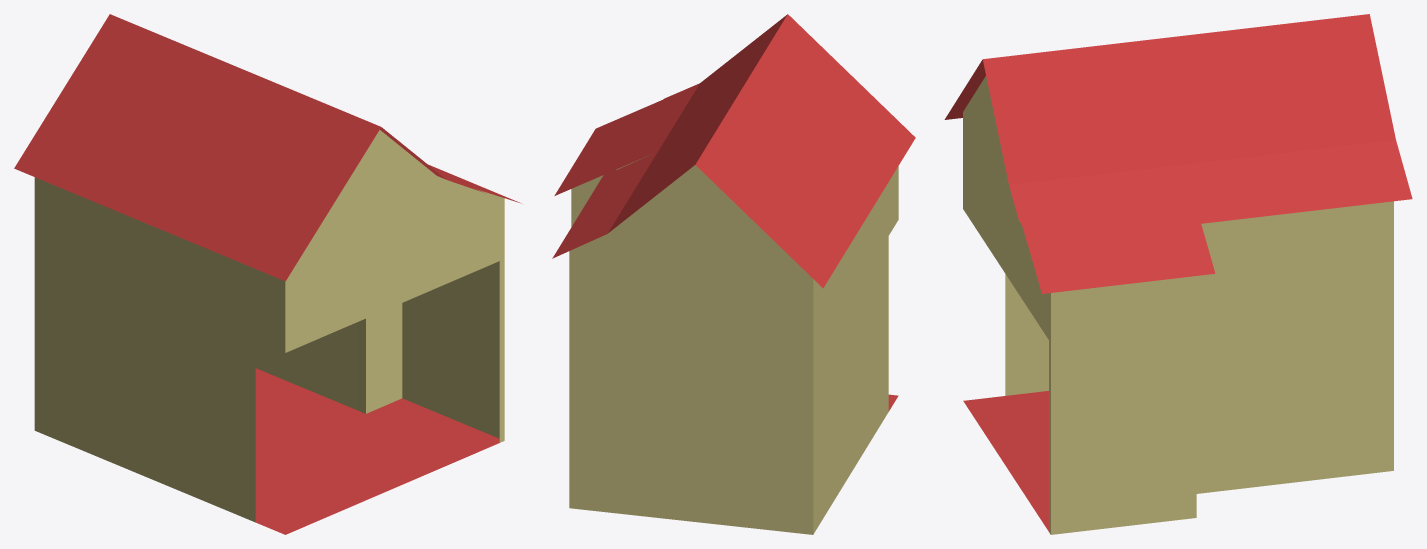
3 views of the same model, side by side, from view 1: azimuth 30°, elevation 25°; view 2: azimuth 150°, elevation 25°; view 3: azimuth 270°, elevation 25° (orthographic). The views are drawn at different scales.
Size of the model in its own units: 14.83 by 15.32 by 14.29.
